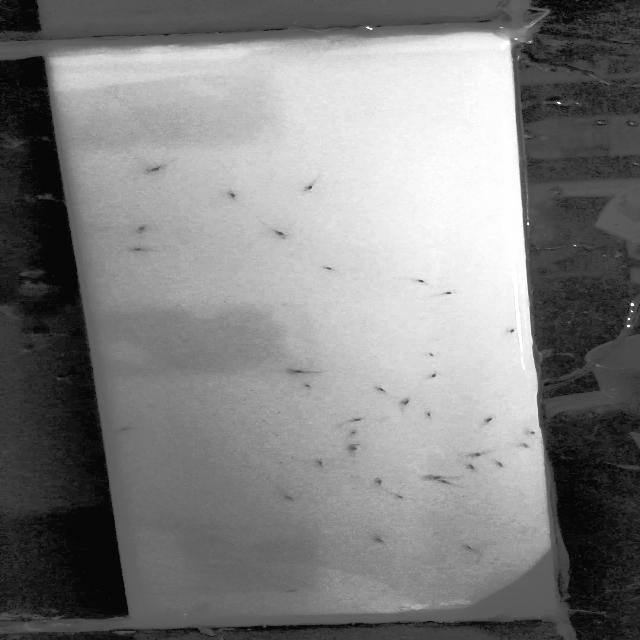shrimp: (284, 366, 326, 376), (116, 425, 148, 437), (399, 395, 419, 410), (273, 490, 298, 501), (314, 263, 341, 273), (299, 182, 320, 194), (269, 229, 290, 240), (387, 492, 412, 501), (146, 164, 168, 174), (342, 418, 369, 426), (128, 245, 149, 255), (442, 288, 459, 300), (481, 414, 498, 426), (344, 428, 369, 436), (224, 189, 243, 199), (413, 276, 432, 286), (459, 542, 477, 552), (310, 458, 327, 468), (372, 477, 387, 488), (134, 224, 152, 233), (492, 458, 508, 468), (298, 382, 317, 390), (373, 384, 388, 394), (438, 479, 459, 486), (468, 449, 484, 458), (421, 353, 441, 360), (371, 536, 388, 544), (423, 372, 442, 379), (346, 445, 362, 453), (526, 428, 542, 436), (463, 462, 478, 470), (426, 473, 443, 480), (285, 588, 302, 595), (424, 411, 435, 419), (507, 326, 519, 333)
